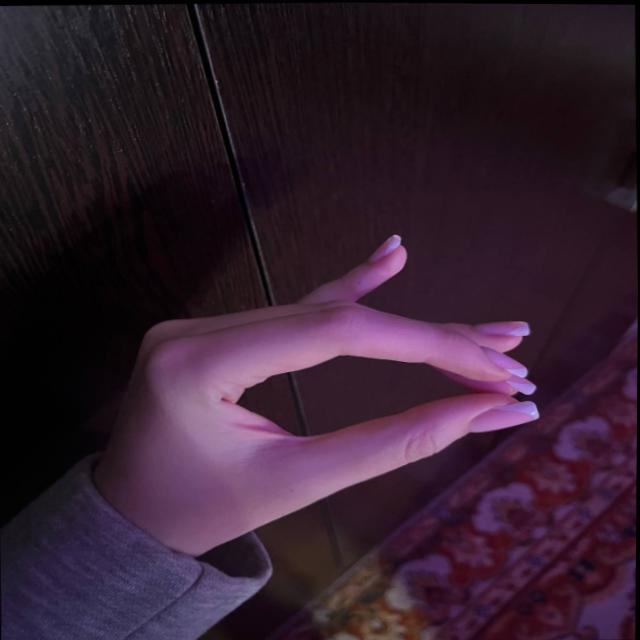iu: (107, 222, 547, 564)
